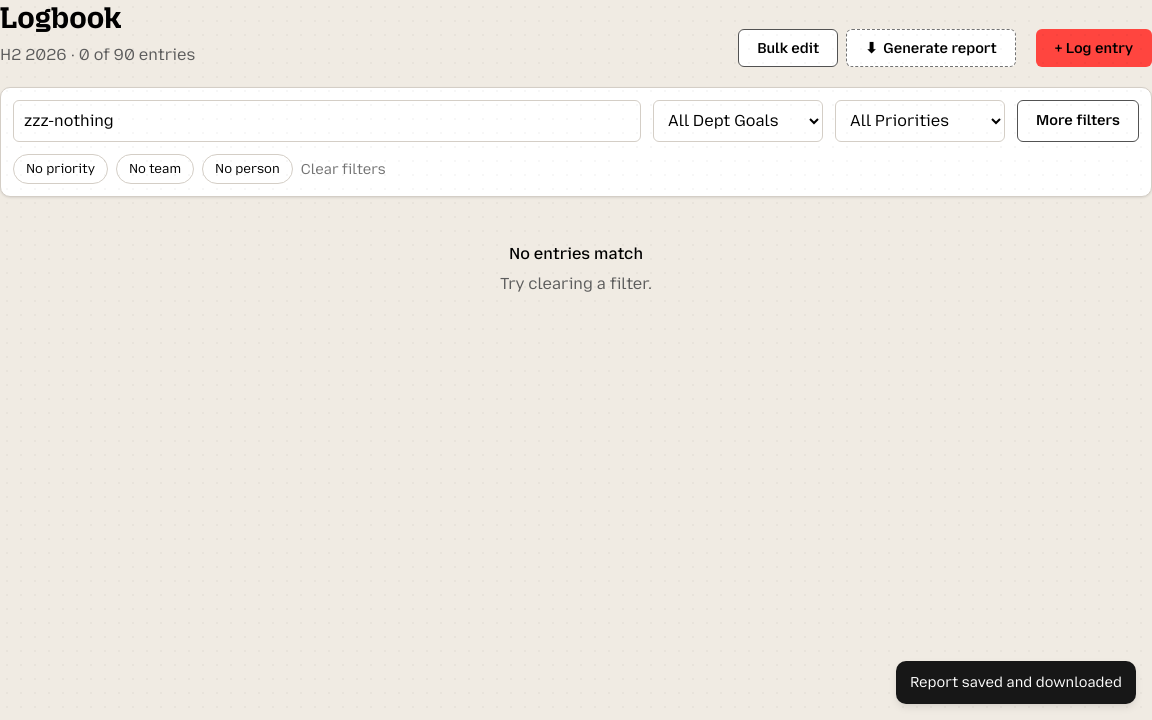
Test: Logbook report dialog › disables generating when no entry matches the filters
This screenshot has width=1152, height=720.
Check: the text "H2 2026 · 0 of 90 entries" is shown, box x1=0 y1=42 x2=195 y2=67
Click the button "⬇ Generate report" at (931, 48), box x1=846 y1=29 x2=1016 y2=67
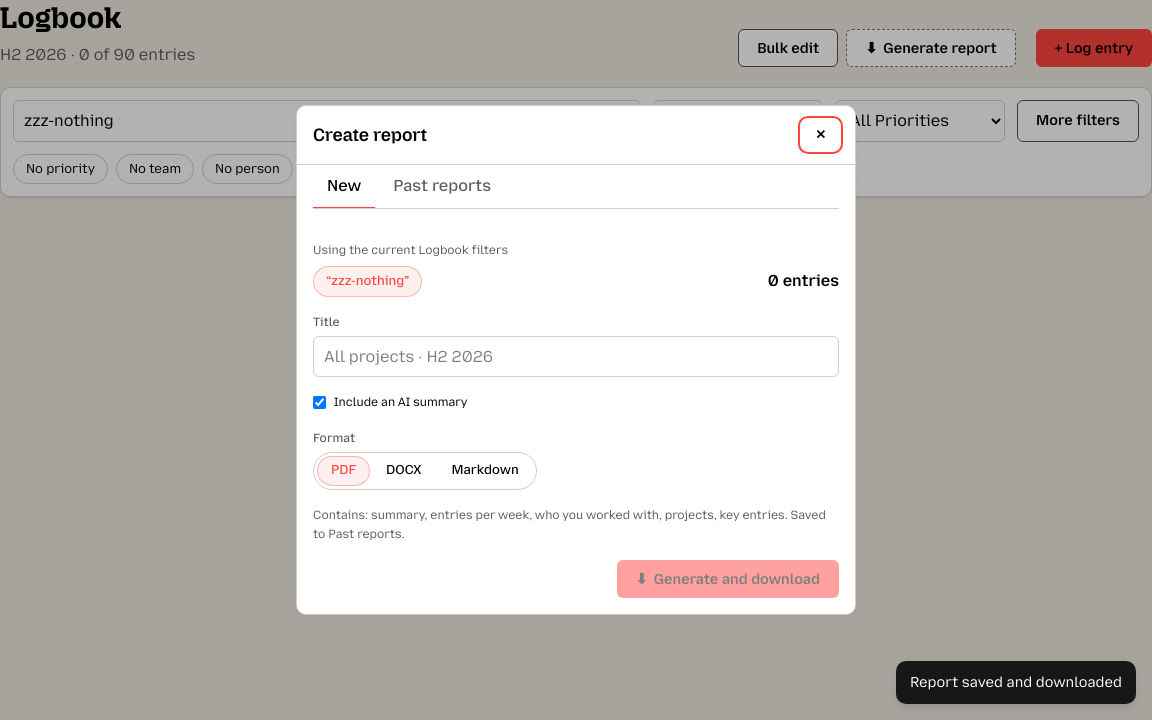
Check: the text "0 entries" is shown, box x1=768 y1=268 x2=839 y2=294
Check: the button "⬇ Generate and download" is disabled, box x1=617 y1=560 x2=839 y2=598
